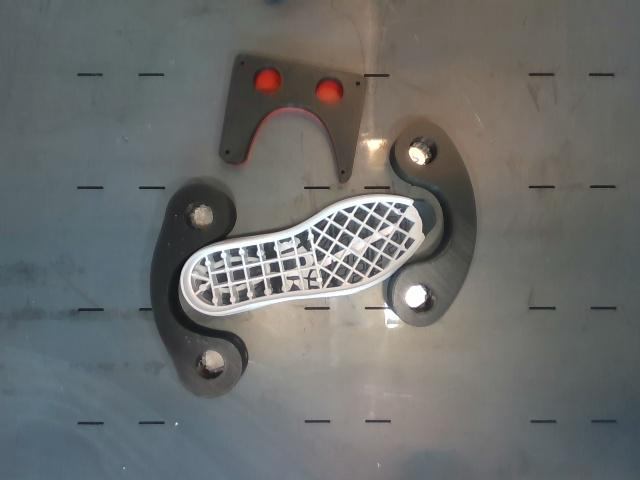shoes: (182, 197, 433, 311)
